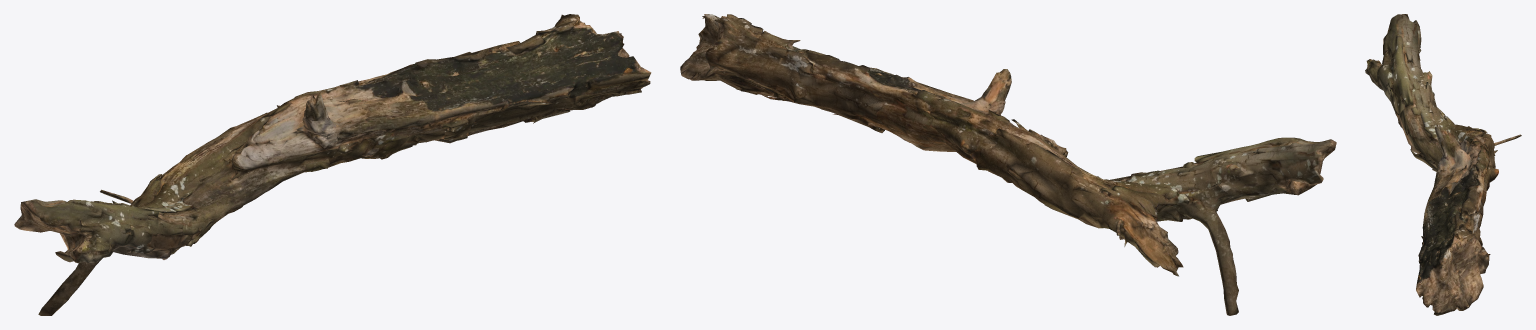
Rendered from dead_tree_trunk_02.glb.
3 views of the same model, side by side, from view 1: azimuth 30°, elevation 25°; view 2: azimuth 150°, elevation 25°; view 3: azimuth 270°, elevation 25° (orthographic). The views are drawn at different scales.
Visible parts, largest first — view 1: dead_tree_trunk_02; view 2: dead_tree_trunk_02; view 3: dead_tree_trunk_02.
Part boxes in pixels (left/top/right/bottom): dead_tree_trunk_02: left=14, top=14, right=651, bottom=315; dead_tree_trunk_02: left=680, top=14, right=1336, bottom=315; dead_tree_trunk_02: left=1365, top=14, right=1521, bottom=315.
Size of the model in its own units: 4.05 by 1.05 by 1.05.
1 material, 1 textured.
